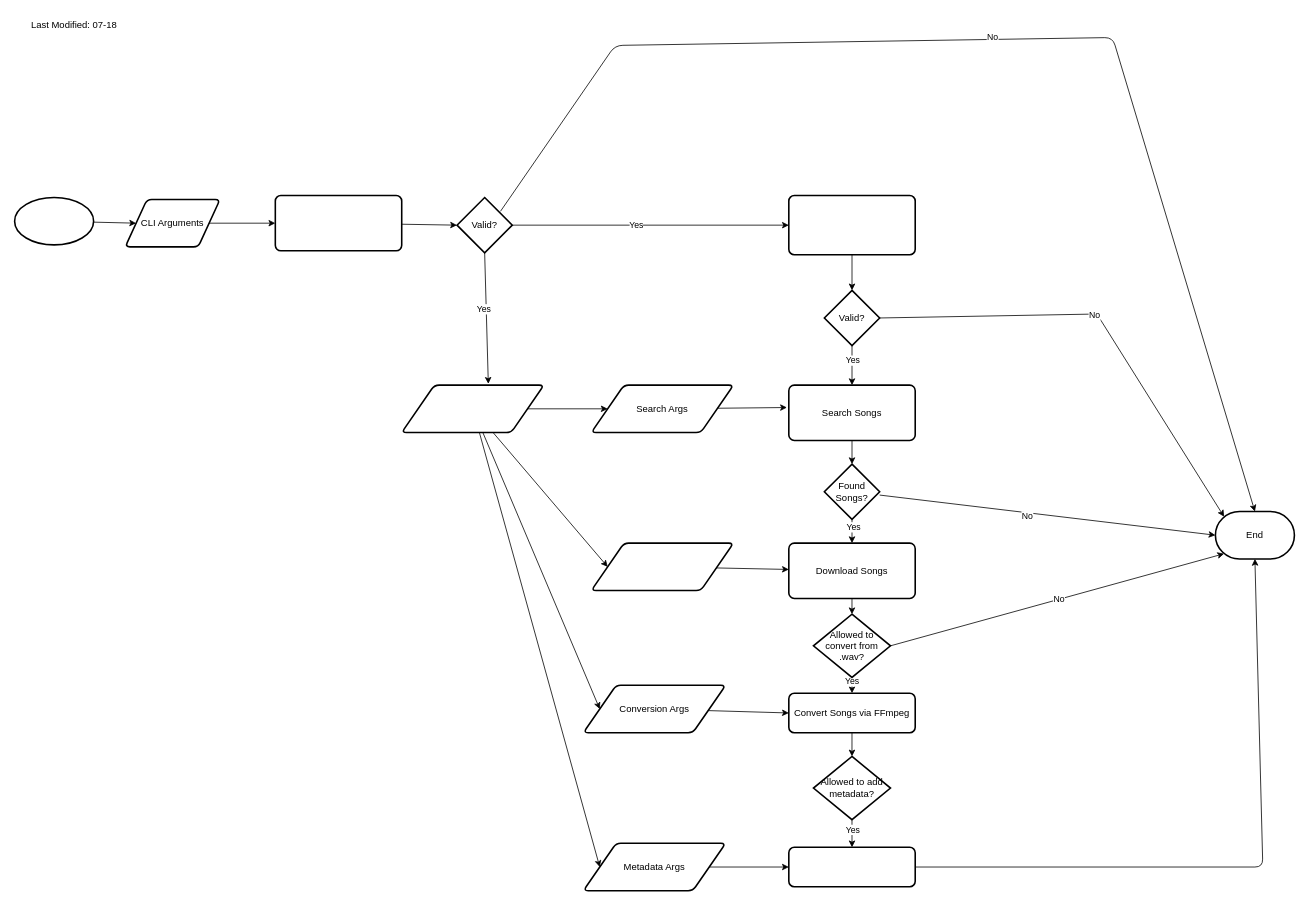
The diagram is 1308 pixels wide and 905 high, and some of its shapes have lost their labels. Each missing label, with the box of its shape:
Add metadata: (788, 846, 916, 887)
Download Args: (590, 542, 734, 591)
Parse Args: (274, 194, 402, 251)
Program Arguments: (401, 384, 544, 433)
Start: (13, 196, 94, 245)
Validate User Directories/Binaries: (788, 194, 916, 255)
